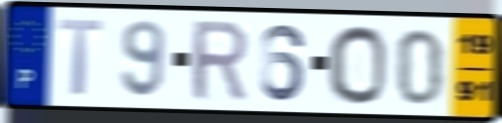0: (393, 26, 448, 107)
6: (260, 22, 307, 104)
9: (118, 18, 168, 100)
O: (325, 23, 388, 107)
R: (189, 18, 250, 104)
T: (55, 16, 105, 98)
